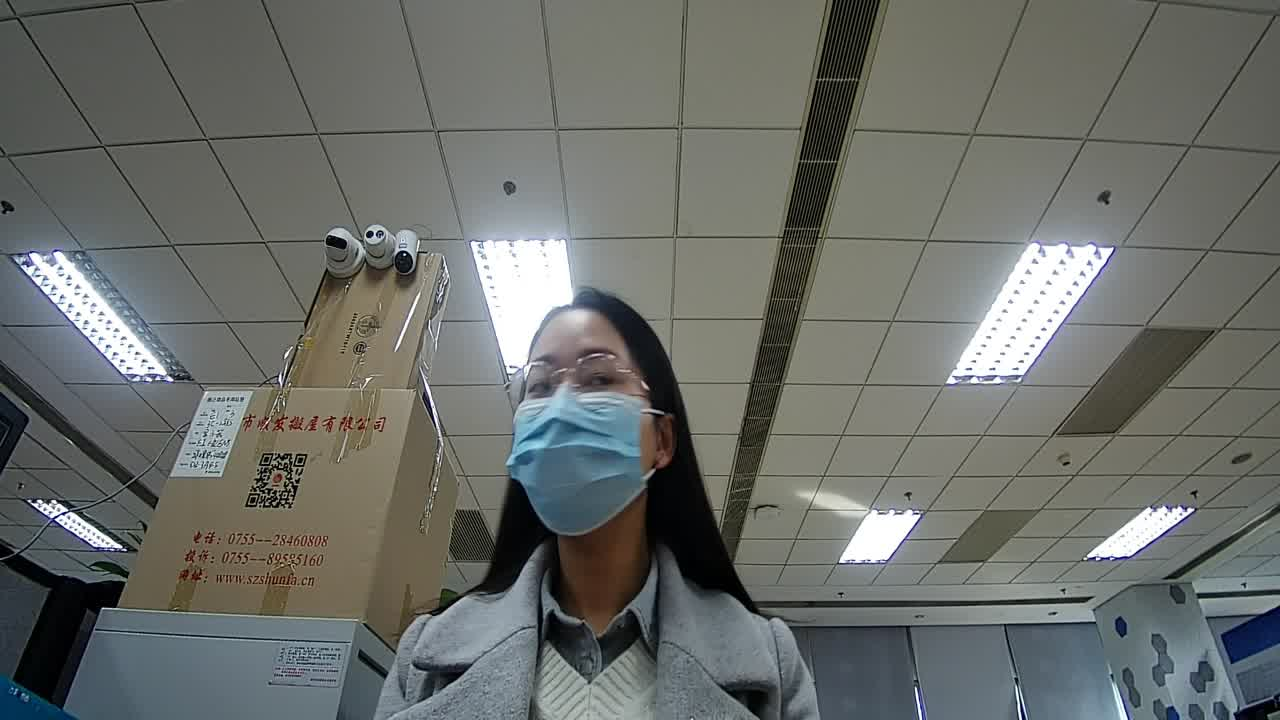face: (501, 313, 679, 533)
mask: (510, 397, 654, 536)
person: (446, 304, 787, 719)
